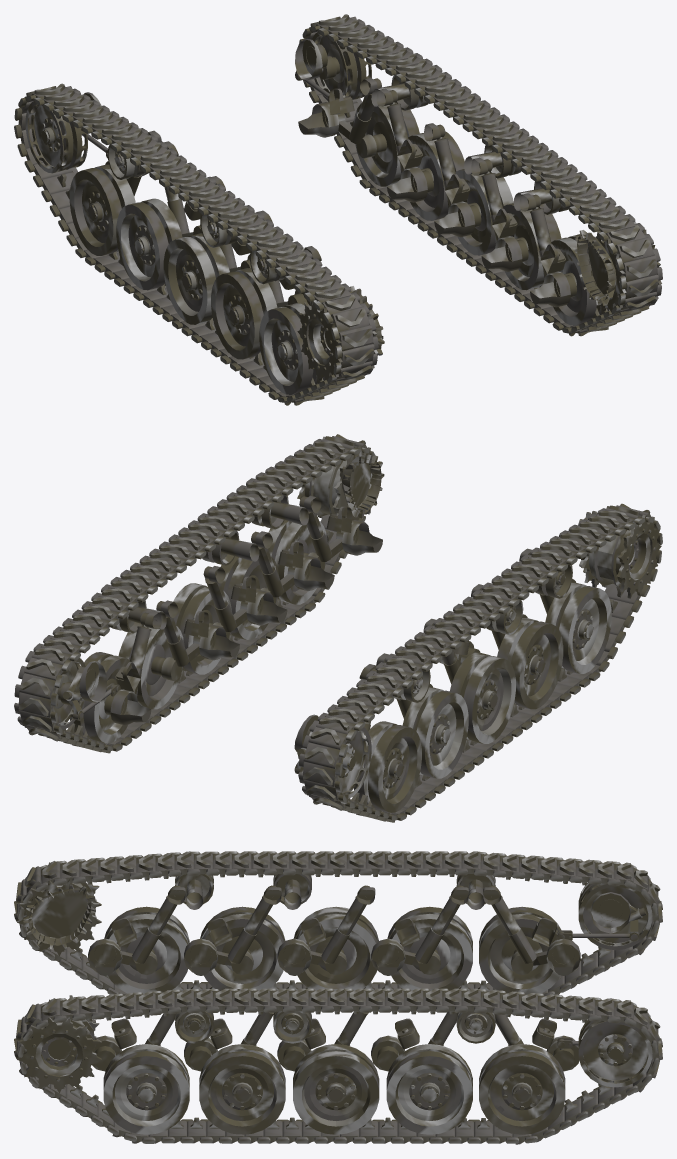
File: chaffee_hull_m1.obj
The picture shows the model from 3 angles, top to bottom: view 1: azimuth 30°, elevation 25°; view 2: azimuth 150°, elevation 25°; view 3: azimuth 270°, elevation 25°; orthographic projection.
Parts seen in each view (by area): view 1: chaffee_hull_m1; view 2: chaffee_hull_m1; view 3: chaffee_hull_m1.
Boxes of the visible parts, left/top/right/bottom form: chaffee_hull_m1: left=14, top=14, right=662, bottom=405; chaffee_hull_m1: left=14, top=434, right=662, bottom=822; chaffee_hull_m1: left=14, top=851, right=662, bottom=1144.
Size of the model in its own units: 2.68 by 1.14 by 4.68.
1 material, 1 textured.
